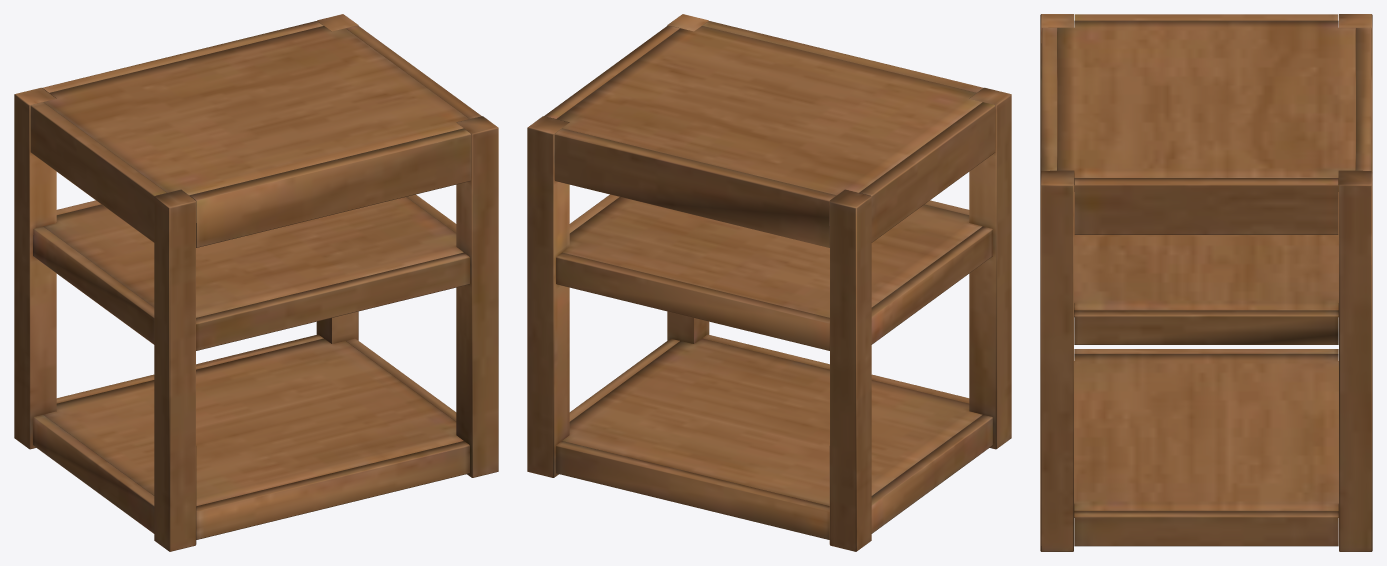
Rendered from side_table_01.glb.
The picture shows the model from 3 angles, left to right: view 1: azimuth 30°, elevation 25°; view 2: azimuth 150°, elevation 25°; view 3: azimuth 270°, elevation 25°; orthographic projection. The views are drawn at different scales.
Parts seen in each view (by area): view 1: side_table_01; view 2: side_table_01; view 3: side_table_01.
Part boxes in pixels (box(x1,y1,x2,y2)): side_table_01: box(14, 14, 498, 551); side_table_01: box(527, 14, 1011, 551); side_table_01: box(1040, 14, 1372, 551).
Bounding box in the file's own units: 0.55 × 0.5507 × 0.45.
1 material, 1 textured.
